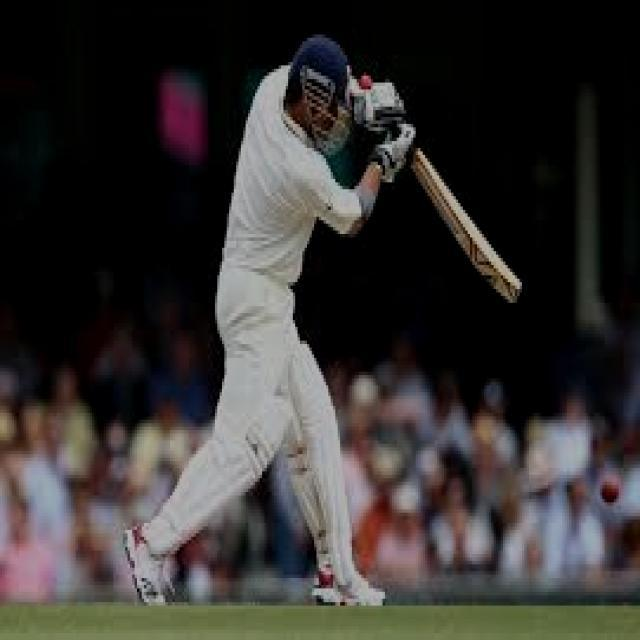bat: (400, 141, 541, 320)
toe: (506, 279, 529, 309)
